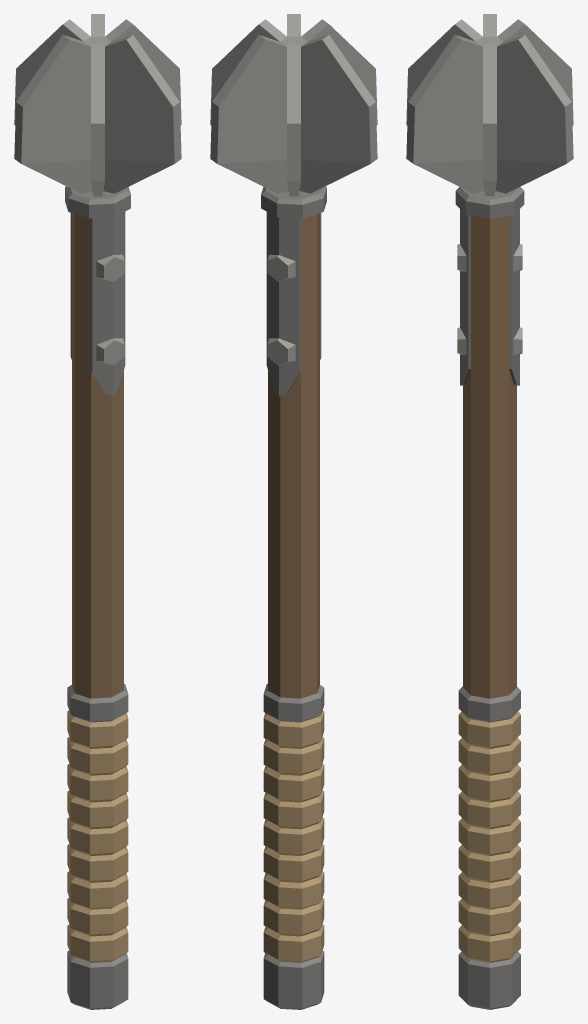
File: SM_pwe_medieval_mace_11.fbx
The picture shows the model from 3 angles, left to right: view 1: azimuth 30°, elevation 25°; view 2: azimuth 150°, elevation 25°; view 3: azimuth 270°, elevation 25°; orthographic projection.
Visible parts, largest first — view 1: SM_pwe_medieval_mace_11; view 2: SM_pwe_medieval_mace_11; view 3: SM_pwe_medieval_mace_11.
Boxes of the visible parts, x1,y1,x2,y2 form: SM_pwe_medieval_mace_11: (14, 14, 181, 1009); SM_pwe_medieval_mace_11: (210, 14, 377, 1009); SM_pwe_medieval_mace_11: (406, 14, 573, 1009).
Size of the model in its own units: 13.13 by 75.83 by 11.86.
